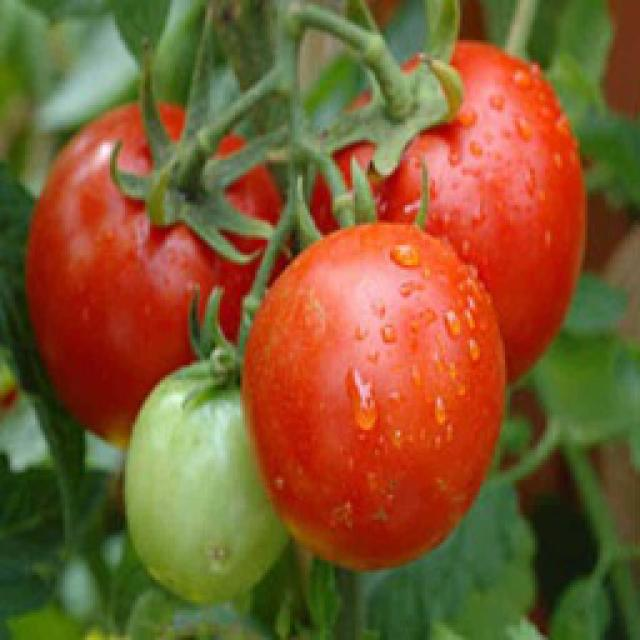tomato: (306, 40, 585, 388), (28, 100, 293, 452), (245, 225, 505, 567)
